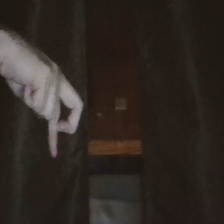P: (1, 18, 92, 176)
